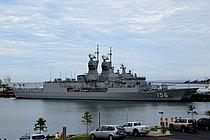MIL_Ship: (9, 44, 187, 101)
